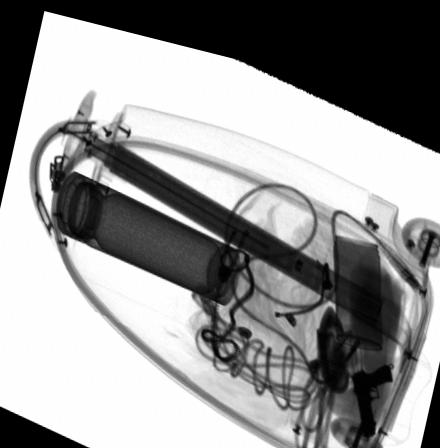Gun: (349, 341, 393, 420)
